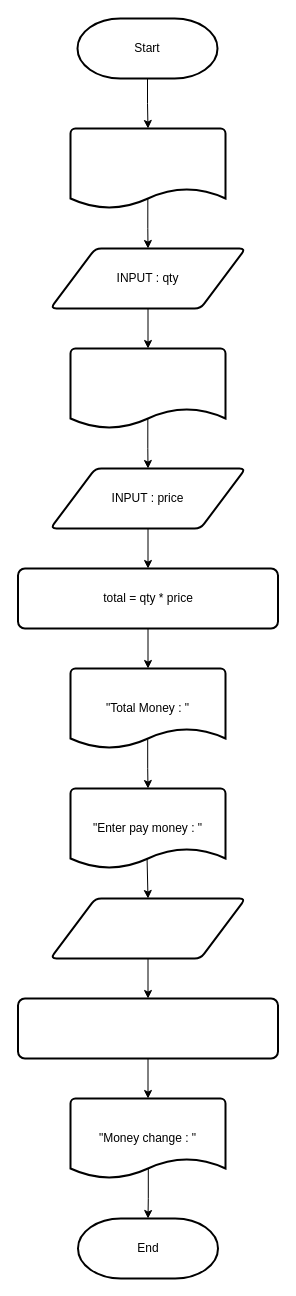
This 296x1296 diagram has some shape labels left out. The centre of each missing label's shape, as x and y in pixels:
"Enter number product : ": [147,168]
"Price per unit : ": [147,388]
change = pay - total: [147,1028]
INPUT : pay: [147,928]
